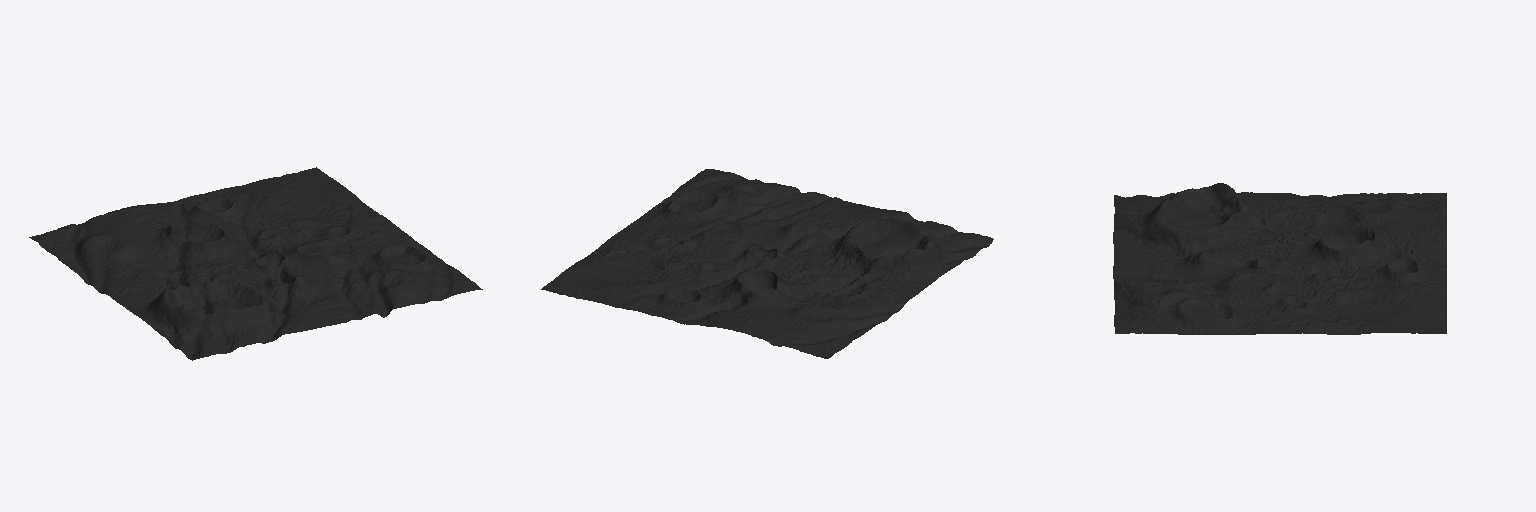
The model's file is Crater2_v003.obj.
The picture shows the model from 3 angles: view 1: azimuth 30°, elevation 25°; view 2: azimuth 150°, elevation 25°; view 3: azimuth 270°, elevation 25°; orthographic projection.
Parts seen in each view (by area): view 1: Crater2_v003.obj; view 2: Crater2_v003.obj; view 3: Crater2_v003.obj.
Part boxes in pixels (x1,y1,x2,y2): Crater2_v003.obj: (29,167,482,360); Crater2_v003.obj: (541,169,993,358); Crater2_v003.obj: (1113,183,1446,334).
Size of the model in its own units: 2.01 by 0.1985 by 2.02.